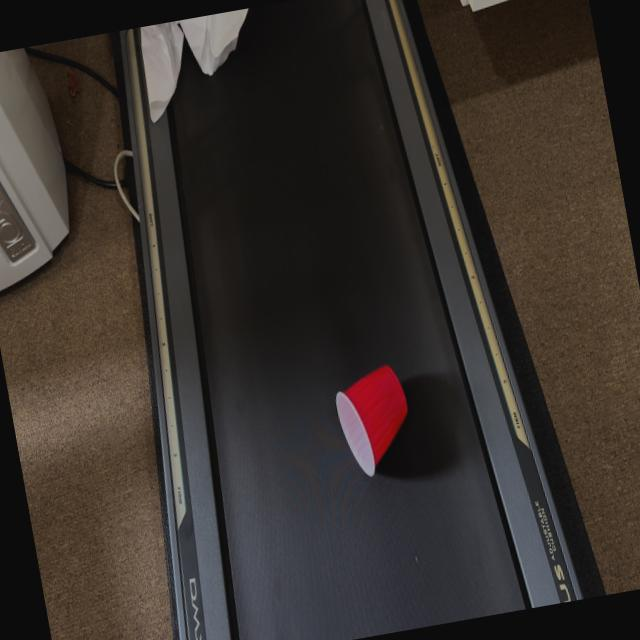Recycle: (330, 362, 420, 481)
